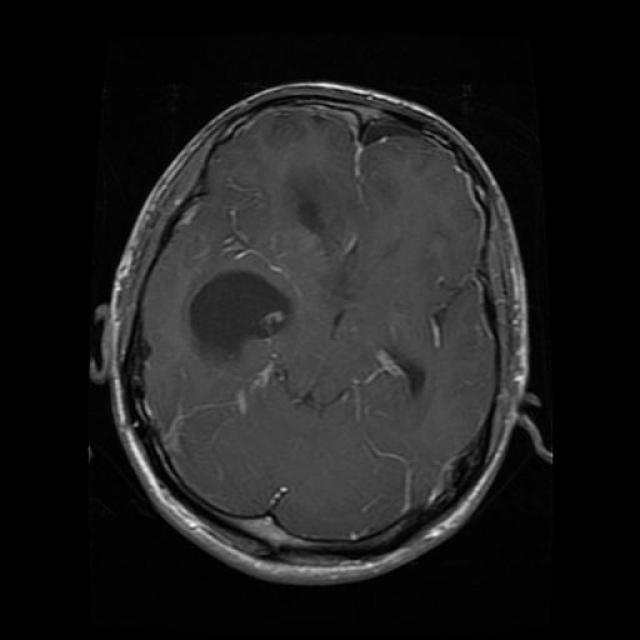glioma: (188, 258, 294, 372)
